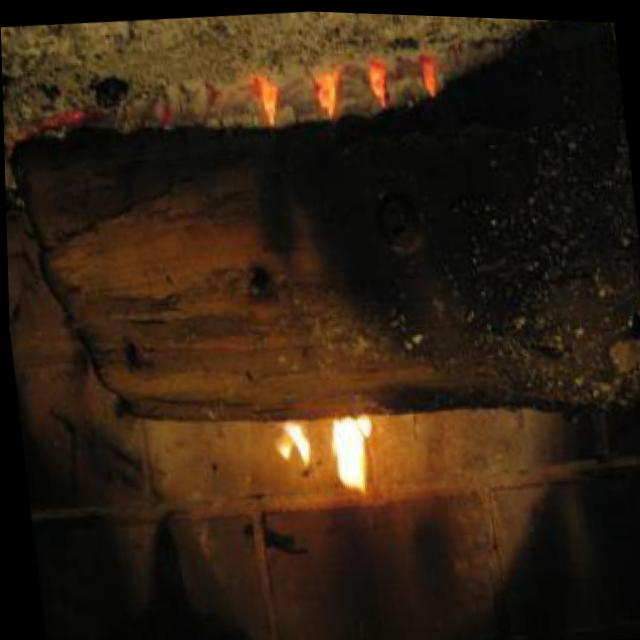Fire: (265, 382, 380, 511)
